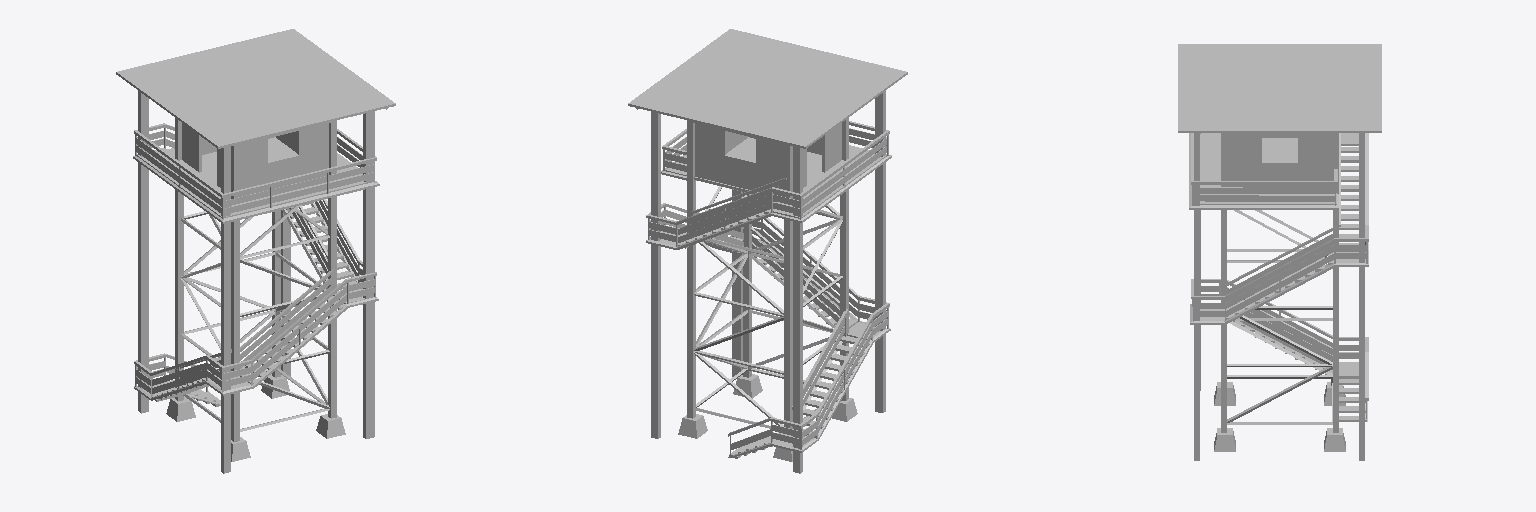
Rendered from woodentower.obj.
The picture shows the model from 3 angles: view 1: azimuth 30°, elevation 25°; view 2: azimuth 150°, elevation 25°; view 3: azimuth 270°, elevation 25°; orthographic projection.
Parts seen in each view (by area): view 1: watchtowerHigh_watchtower; view 2: watchtowerHigh_watchtower; view 3: watchtowerHigh_watchtower.
Part boxes in pixels (x1,y1,x2,y2): watchtowerHigh_watchtower: (116,29,395,473); watchtowerHigh_watchtower: (628,29,907,473); watchtowerHigh_watchtower: (1178,44,1381,460).
Bounding box in the file's own units: 4.22 × 7.65 × 4.22.